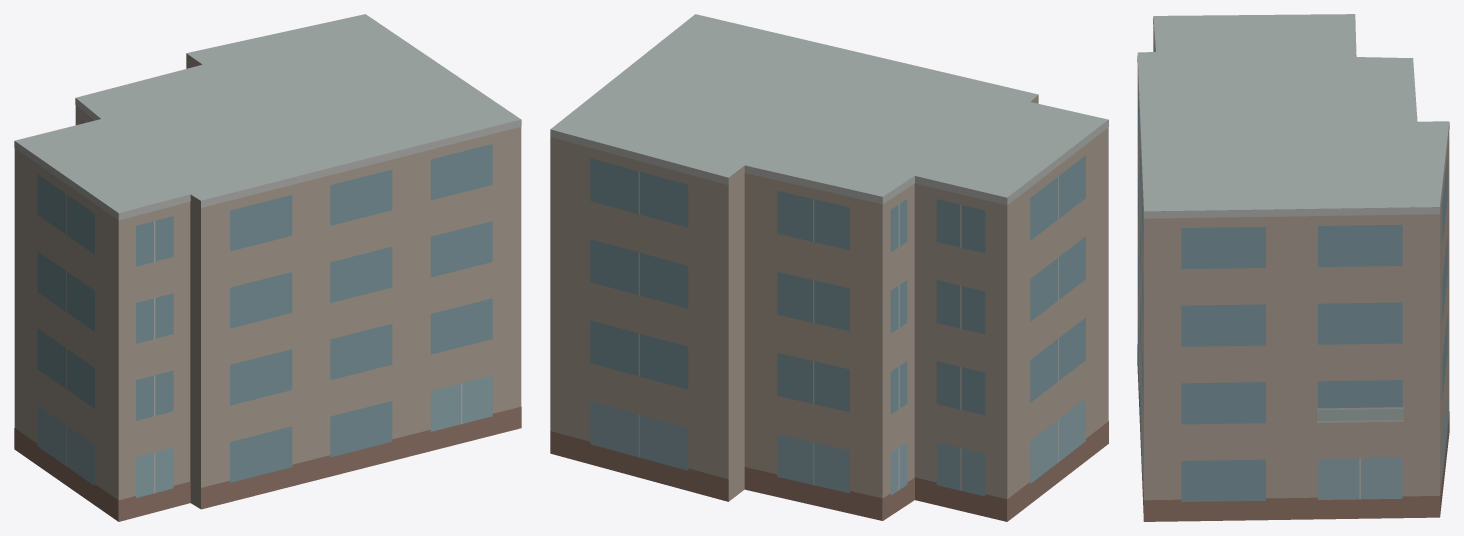
Rendered from survey-upis-32848630.glb.
3 renders of one model, left to right at view 1: azimuth 30°, elevation 25°; view 2: azimuth 150°, elevation 25°; view 3: azimuth 270°, elevation 25°, orthographic. The views are drawn at different scales.
Visible parts, largest first — view 1: survey-upis-32848630.tmp; view 2: survey-upis-32848630.tmp; view 3: survey-upis-32848630.tmp.
Part boxes in pixels (box(x1,y1,x2,y2)): survey-upis-32848630.tmp: box(14, 14, 521, 521); survey-upis-32848630.tmp: box(550, 14, 1108, 521); survey-upis-32848630.tmp: box(1137, 14, 1449, 521).
Size of the model in its own units: 14.32 by 10.5 by 9.57.
